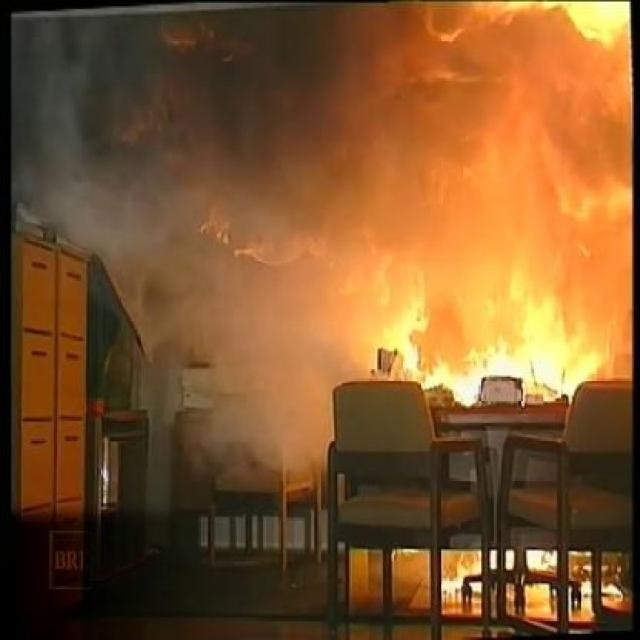fire: (333, 1, 631, 352)
smoke: (13, 12, 313, 257)
